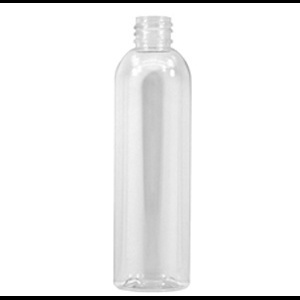emptybottle: (115, 17, 191, 289)
